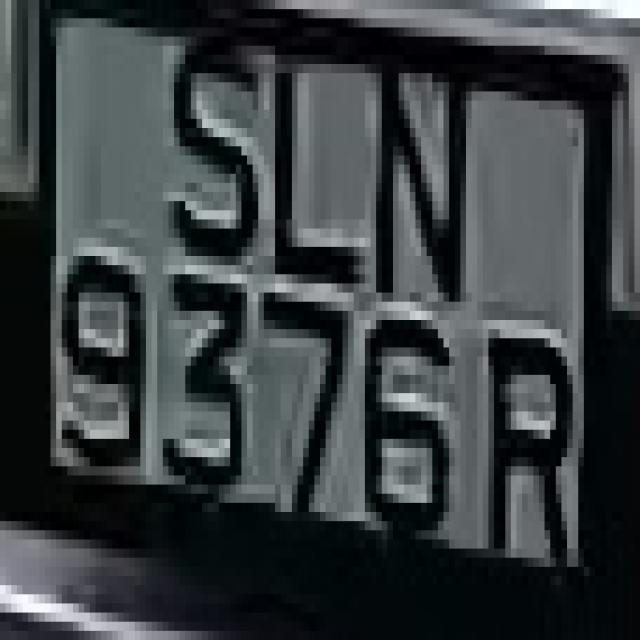3: (146, 229, 258, 521)
6: (359, 283, 455, 567)
7: (258, 256, 359, 521)
9: (50, 219, 146, 494)
L: (270, 37, 360, 338)
N: (365, 46, 477, 311)
R: (455, 292, 584, 604)
S: (151, 28, 264, 274)
